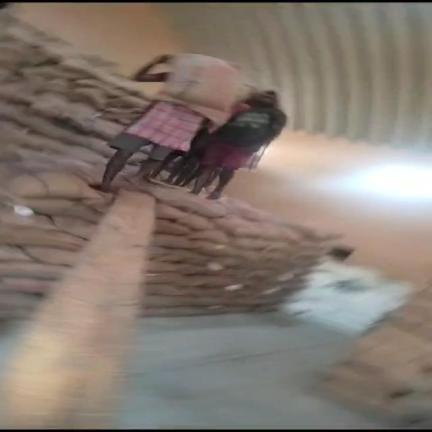Zone-Counting: (99, 55, 239, 191)
